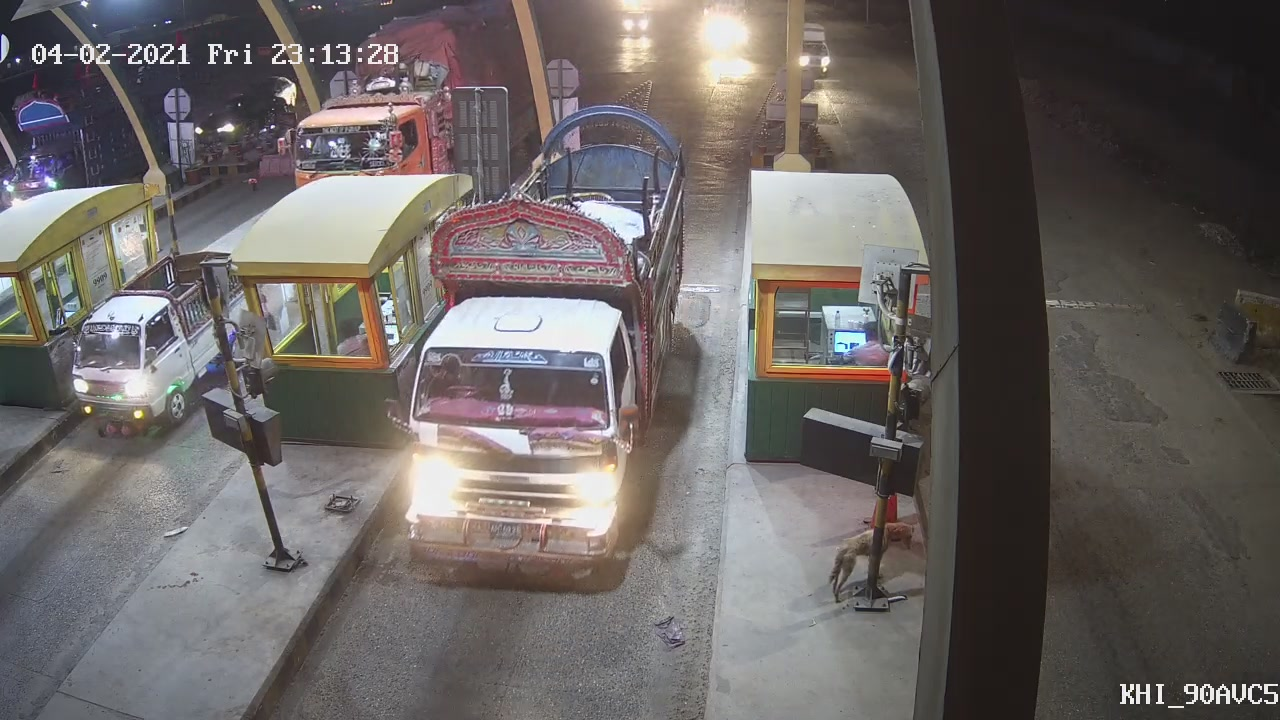F5: (393, 122, 696, 582)
